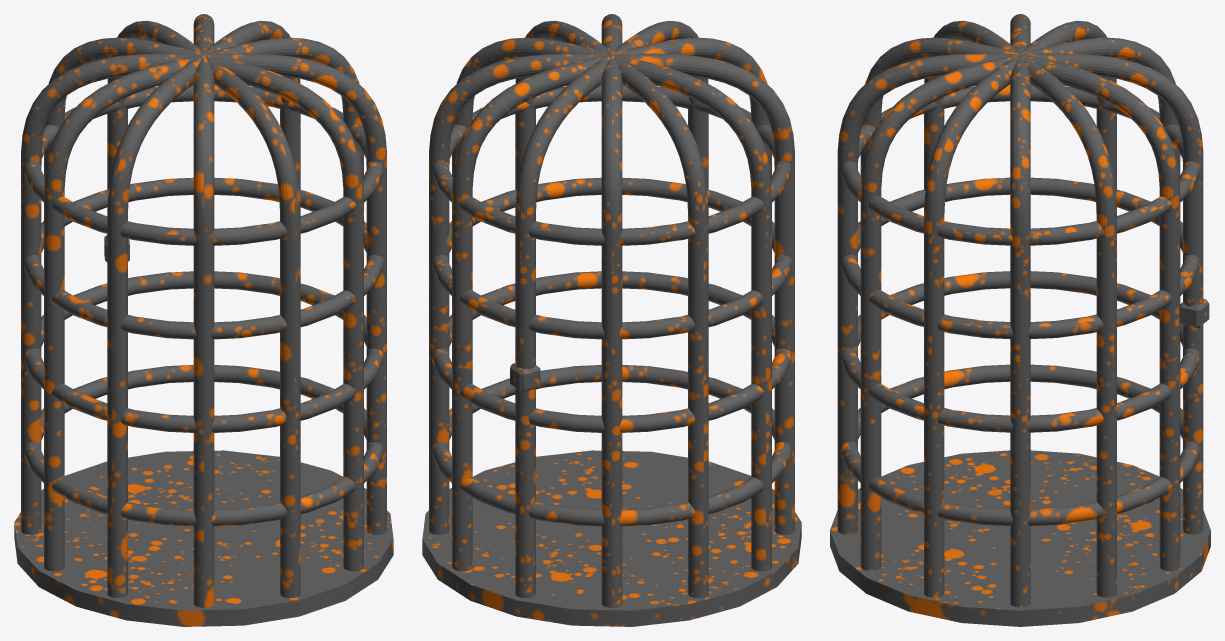
The model's file is M_Gabbia.fbx.
The picture shows the model from 3 angles, left to right: view 1: azimuth 30°, elevation 25°; view 2: azimuth 150°, elevation 25°; view 3: azimuth 270°, elevation 25°; orthographic projection.
Visible parts, largest first — view 1: Gabbia; view 2: Gabbia; view 3: Gabbia.
Boxes of the visible parts, x1,y1,x2,y2 form: Gabbia: [14, 14, 393, 626]; Gabbia: [422, 14, 801, 626]; Gabbia: [830, 14, 1210, 626].
Bounding box in the file's own units: 7.4 × 10.55 × 7.4.
